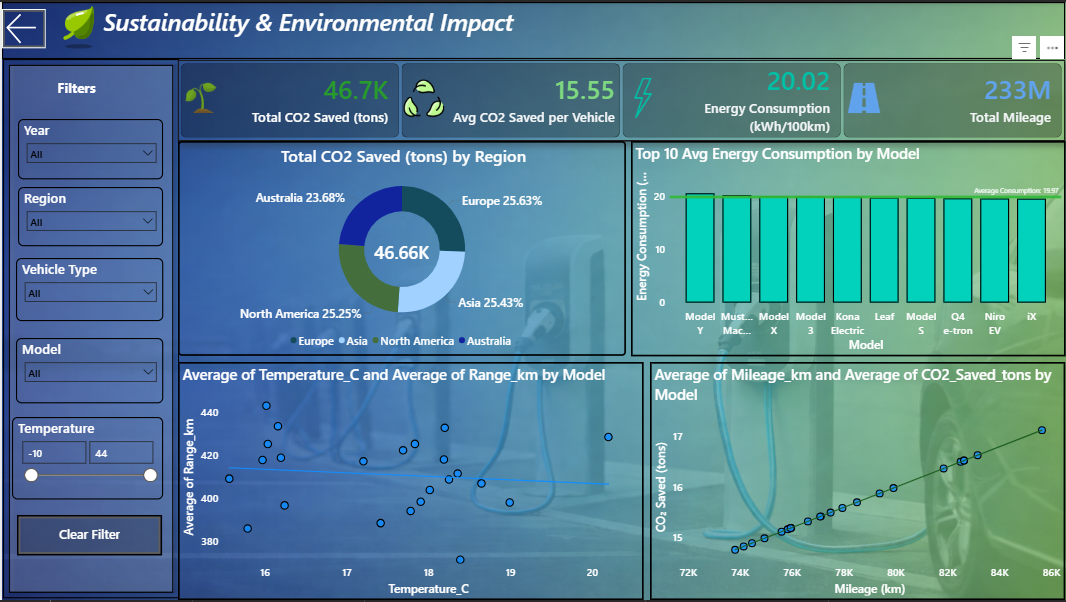

This screenshot's page, from the dashboard's own definition file:
{"tool":"powerbi","page":{"name":"Sustainability & Environmental Impact Analysis","canvas":[1920,1080],"ordinal":2},"visuals":[{"type":"shape","box":[2.1,103.2,317.9,974.5],"z":0},{"type":"textbox","box":[0,0,1920,103.2],"z":1000},{"type":"cardVisual","fields":{"Data":["Measure_table.Total CO2 Saved (tons)","Measure_table.Avg CO2 Saved per Vehicle","Measure_table.Weighted Energy Consumption","Measure_table.Total Mileage"]},"box":[317.9,105.3,1602.1,146.6],"z":2000},{"type":"slicer","title":"Vehicle Type","fields":{"Values":["electric_vehicle_analytics.Vehicle_Type"]},"box":[24.8,462.5,266.3,113.5],"z":3000},{"type":"slicer","title":"Year","fields":{"Values":["electric_vehicle_analytics.Year"]},"box":[28.9,210.6,262.2,109.4],"z":4000},{"type":"slicer","title":"Model","fields":{"Values":["electric_vehicle_analytics.Model"]},"box":[24.8,607,266.3,117.7],"z":5000},{"type":"slicer","title":"Region","fields":{"Values":["electric_vehicle_analytics.Model"]},"box":[28.9,334.5,262.2,107.4],"z":6000},{"type":"slicer","title":"Temperature ","fields":{"Values":["Sustainability.Temperature_C"]},"box":[18.6,749.4,272.5,148.6],"z":7000},{"type":"textbox","box":[24.8,134.2,218.8,59.9],"z":8000},{"type":"donutChart","fields":{"Category":["electric_vehicle_analytics.Region"],"Y":["Measure_table.Total CO2 Saved (tons)"]},"box":[317.9,251.9,809,388],"z":9000},{"type":"columnChart","title":"Top 10 Avg Energy Consumption by Model","fields":{"Y":["Measure_table.Avg Energy Consumption"],"Category":["electric_vehicle_analytics.Model"]},"box":[1135.5,251.9,785,389],"z":10000},{"type":"scatterChart","fields":{"X":["Avg(Sustainability.Temperature_C)"],"Y":["Avg(Battery_per_info.Range_km)"],"Category":["electric_vehicle_analytics.Model"]},"box":[317.9,650.3,841,430],"z":11000},{"type":"scatterChart","fields":{"X":["Avg(Battery_per_info.Mileage_km)"],"Y":["Avg(Sustainability.CO2_Saved_tons)"],"Category":["electric_vehicle_analytics.Model"]},"box":[1170.6,650.3,750,430],"z":12000},{"type":"image","box":[79.4,0,118,83.7],"z":13000},{"type":"actionButton","box":[27.9,926.7,261.7,72.9],"z":14000},{"type":"actionButton","box":[0,12.9,79.4,70.8],"z":15000},{"type":"cardVisual","fields":{"Data":["Measure_table.Total CO2 Saved (tons)"]},"box":[642.1,379.9,258.1,140.4],"z":16000}]}

Visuals, with their boxes in screenshot pixels (x1, y1, x2, y2), scaled from the page's 1920x1080 canvas onto the 1066x602 screenshot:
shape: l=1, t=58, r=178, b=601
textbox: l=0, t=0, r=1065, b=58
cardVisual - Measure_table.Total CO2 Saved (tons) x Measure_table.Avg CO2 Saved per Vehicle: l=177, t=59, r=1065, b=140
"Vehicle Type" slicer: l=14, t=258, r=162, b=321
"Year" slicer: l=16, t=117, r=162, b=178
"Model" slicer: l=14, t=338, r=162, b=404
"Region" slicer: l=16, t=186, r=162, b=246
"Temperature " slicer: l=10, t=418, r=162, b=501
textbox: l=14, t=75, r=135, b=108
donutChart - electric_vehicle_analytics.Region x Measure_table.Total CO2 Saved (tons): l=177, t=140, r=626, b=357
"Top 10 Avg Energy Consumption by Model" columnChart: l=630, t=140, r=1065, b=357
scatterChart - Avg(Sustainability.Temperature_C) x Avg(Battery_per_info.Range_km): l=177, t=362, r=643, b=601
scatterChart - Avg(Battery_per_info.Mileage_km) x Avg(Sustainability.CO2_Saved_tons): l=650, t=362, r=1065, b=601
image: l=44, t=0, r=110, b=47
actionButton: l=15, t=517, r=161, b=557
actionButton: l=0, t=7, r=44, b=47
cardVisual - Measure_table.Total CO2 Saved (tons): l=356, t=212, r=500, b=290
